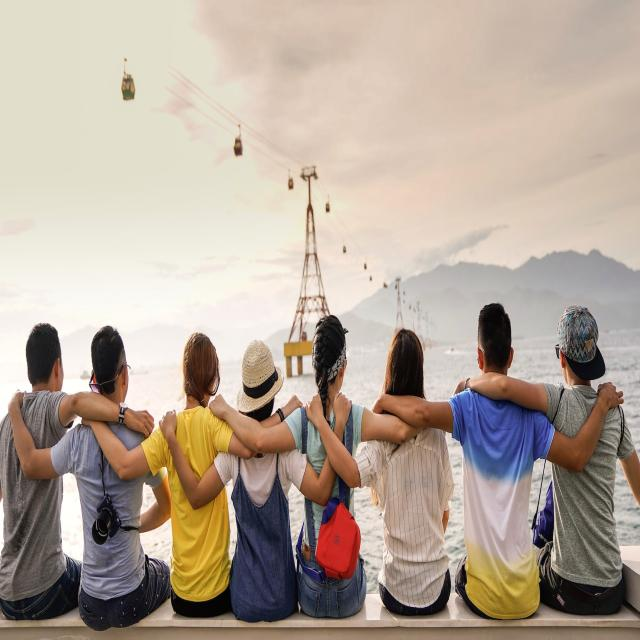adult: (375, 304, 622, 614), (214, 316, 416, 620), (463, 302, 640, 614), (162, 341, 349, 608), (11, 324, 166, 629), (0, 324, 155, 620), (310, 319, 450, 612)
